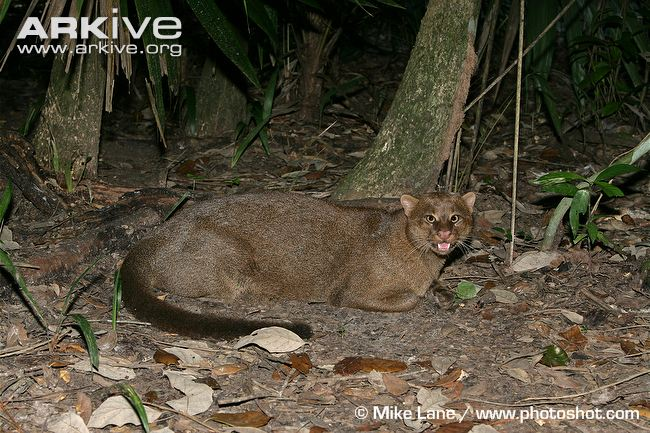Jaguarundi: (108, 183, 485, 349)
